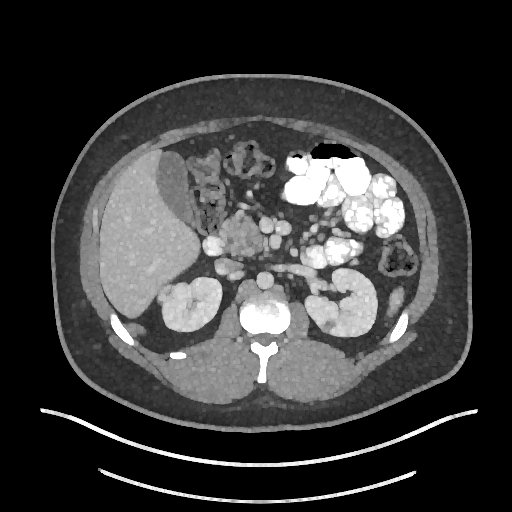Lesion: (318, 316, 341, 332)
